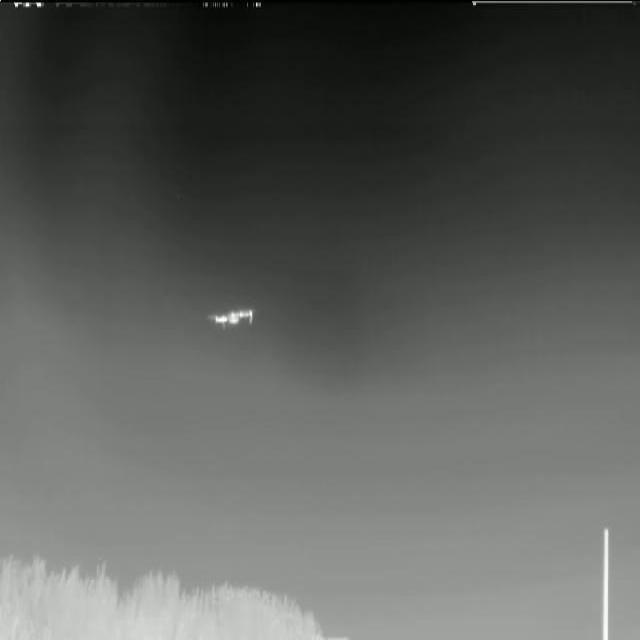DRONE: (203, 295, 260, 343)
